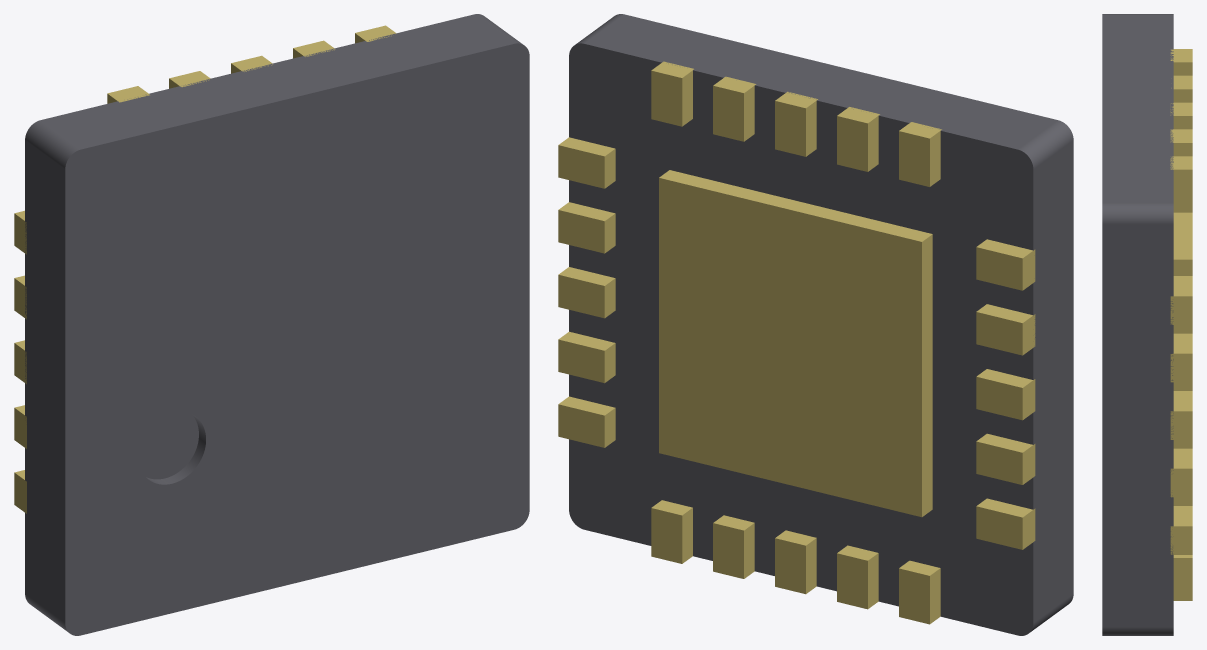
The model's file is cst816s.glb.
3 renders of one model, left to right at view 1: azimuth 30°, elevation 25°; view 2: azimuth 150°, elevation 25°; view 3: azimuth 270°, elevation 25°, orthographic. The views are drawn at different scales.
Visible parts, largest first — view 1: extra, pins; view 2: extra, pins; view 3: extra, pins.
Boxes of the visible parts, x1,y1,x2,y2 form: extra: (25, 14, 529, 635); pins: (14, 25, 396, 513); extra: (569, 14, 1073, 635); pins: (558, 61, 1035, 624); extra: (1102, 14, 1173, 635); pins: (1170, 49, 1192, 600).
Bounding box in the file's own units: 3 × 3 × 0.57.
